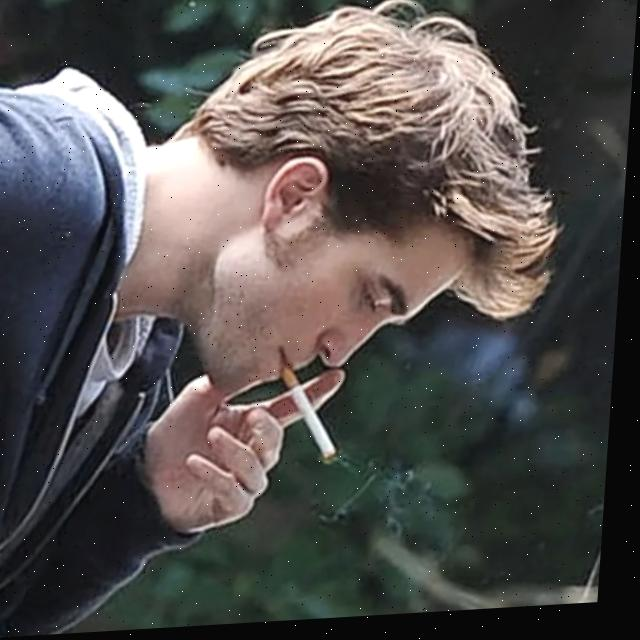cigarette: (281, 363, 348, 467)
